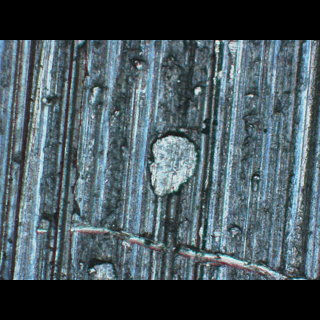d: (35, 217, 296, 279), (145, 126, 202, 202)
